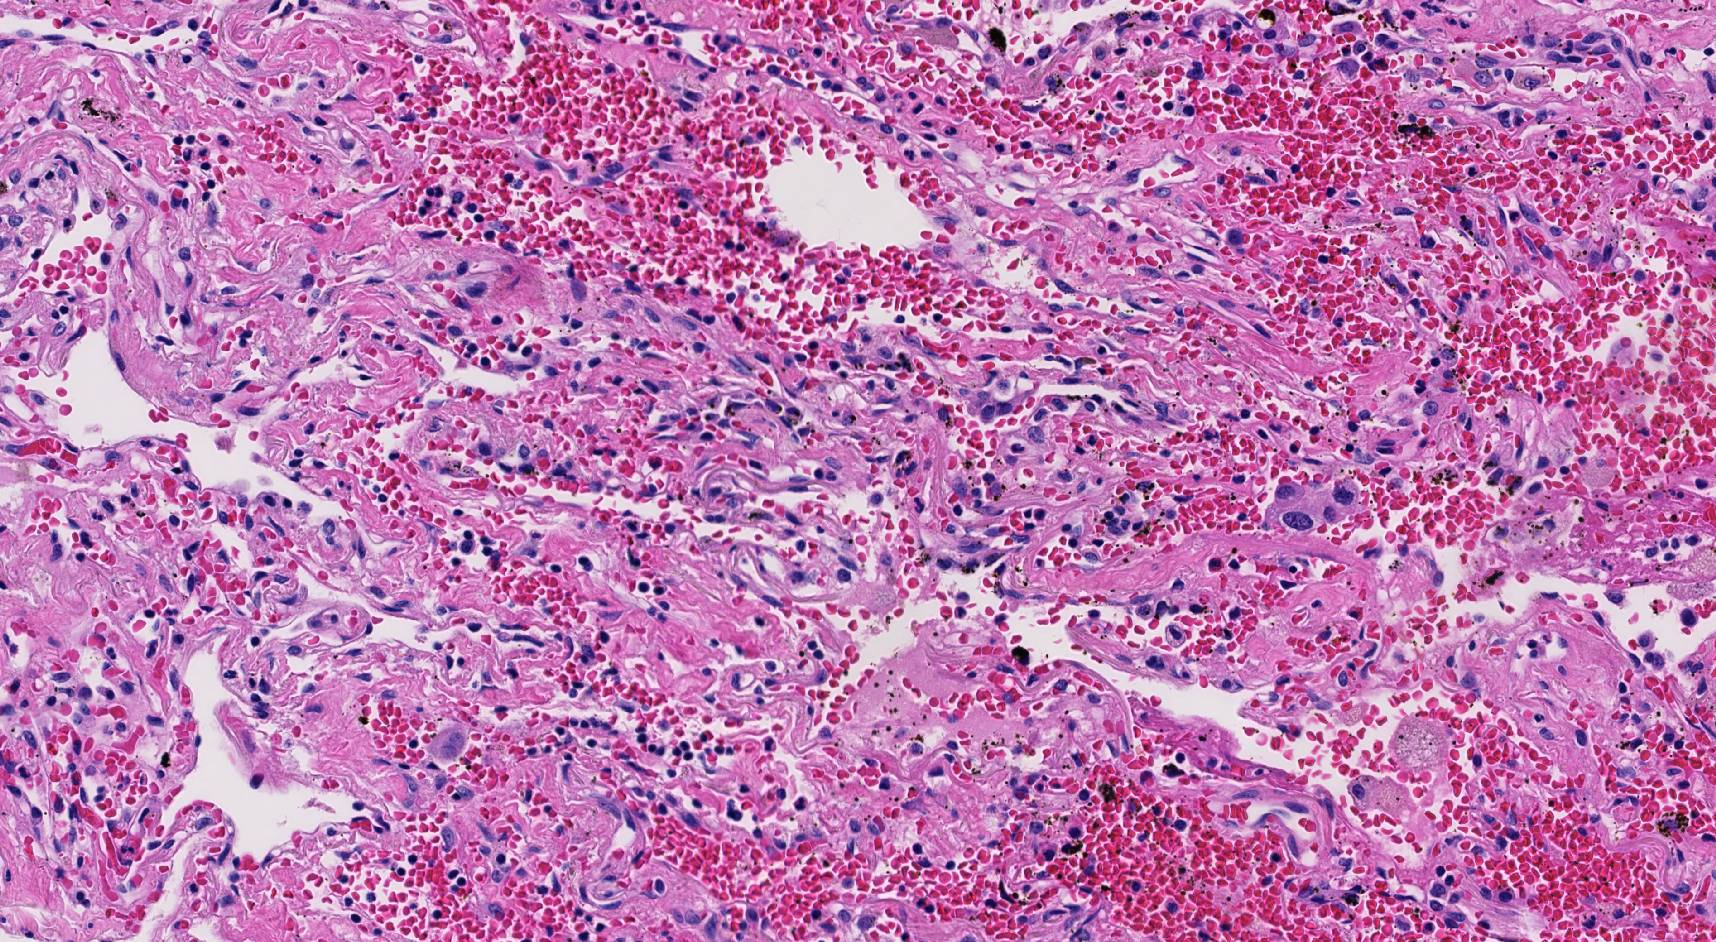stas: (1266, 474, 1363, 535)
